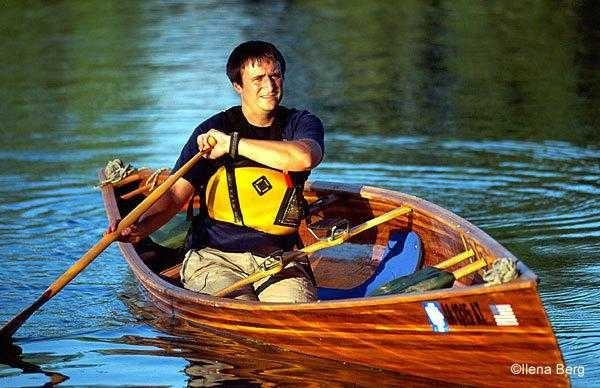kayak: (115, 172, 571, 385)
